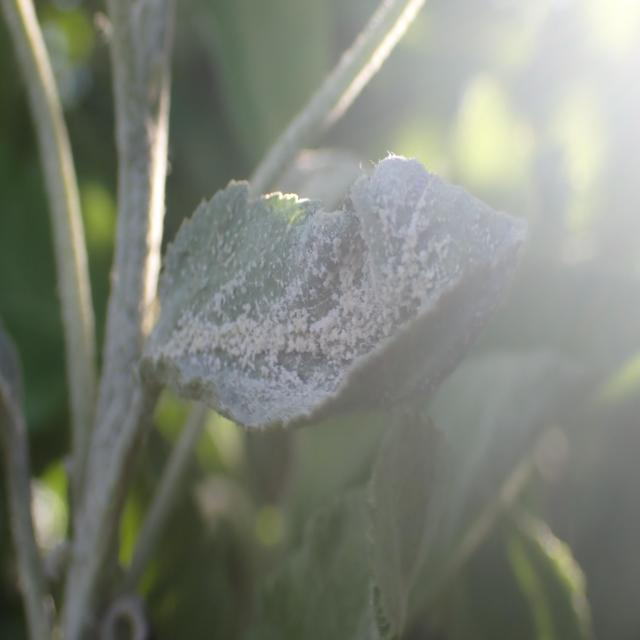Powdery_mildew: (123, 167, 542, 447)
